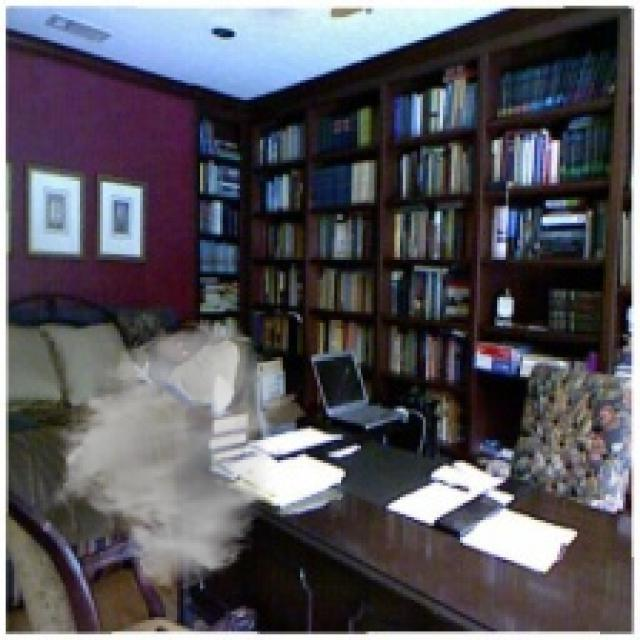Smoke: (48, 317, 283, 592)
